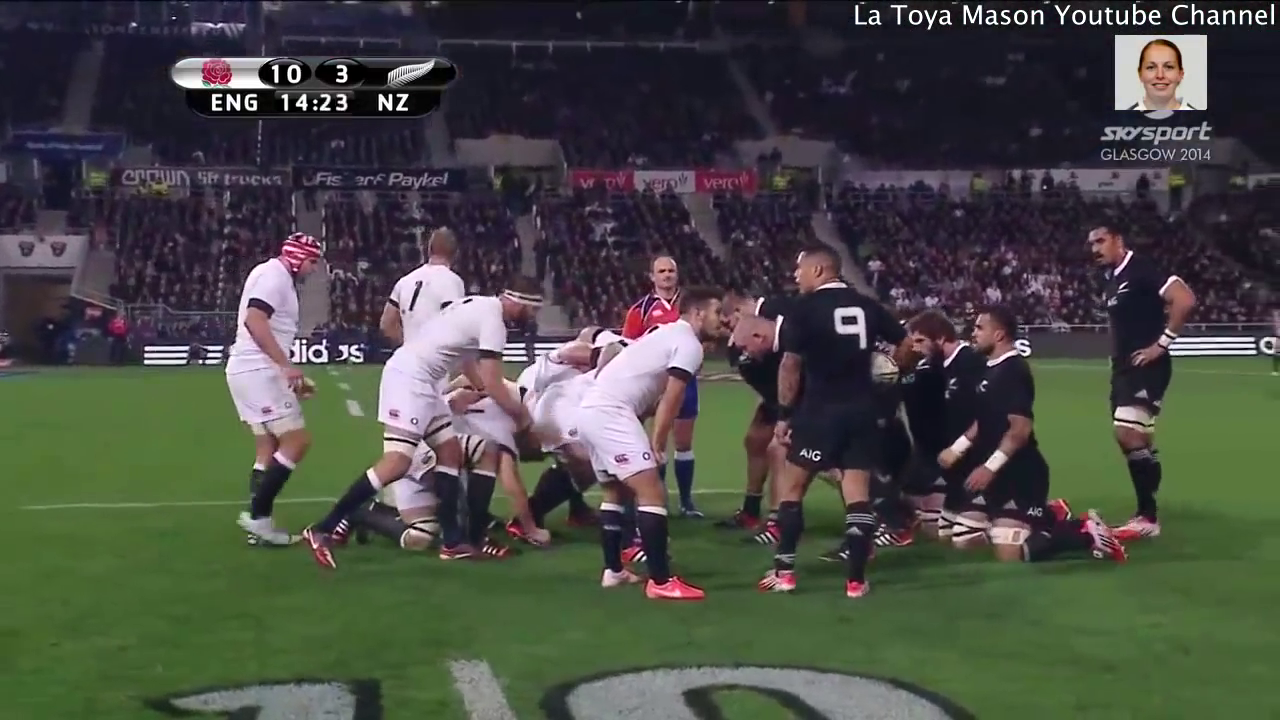player: (298, 275, 545, 574), (944, 302, 1130, 571), (583, 288, 730, 604), (1065, 214, 1201, 539), (762, 240, 877, 609), (217, 226, 322, 557), (613, 251, 715, 530), (377, 223, 466, 350), (907, 311, 978, 422)
